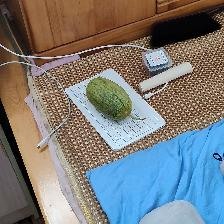gua: (86, 75, 135, 126)
